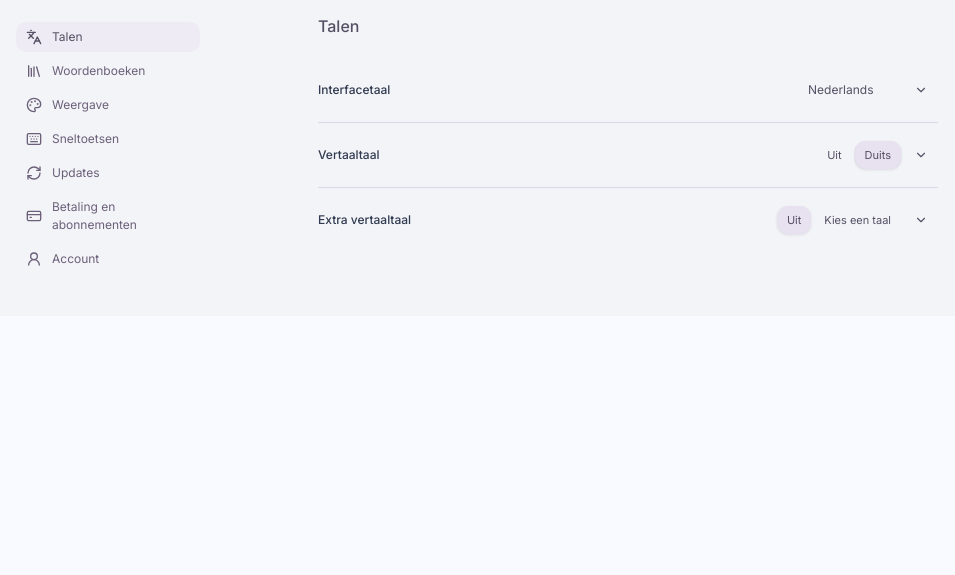
Test: approved sections and accessible controls follow the nl catalog
Expected: the button with aria-label "Interfacetaal" is shown, [798, 76, 938, 104]
Step 1. Click the button "Sneltoetsen" → [108, 139], box [16, 124, 200, 154]
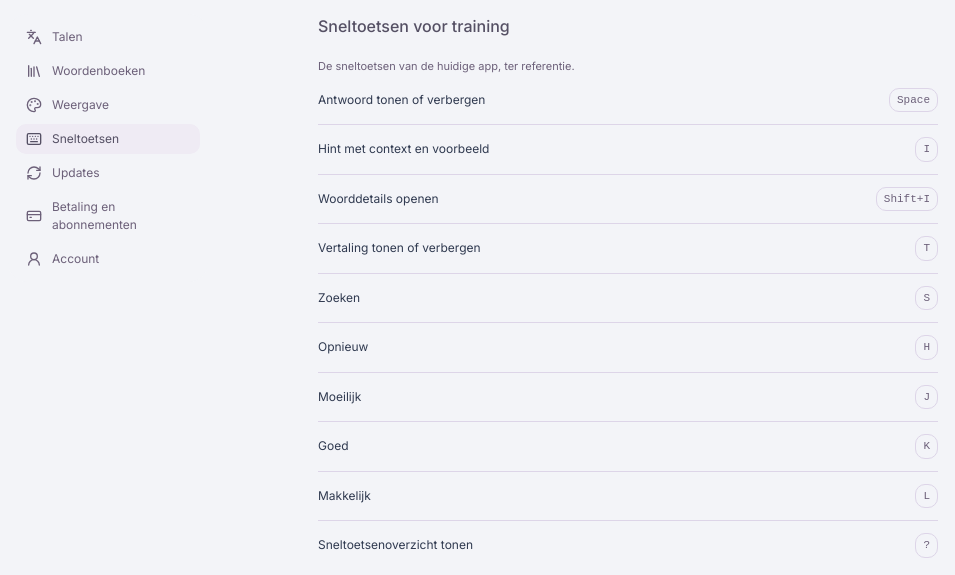
Now the heading "Sneltoetsen voor training" is shown, box [318, 16, 510, 36]
